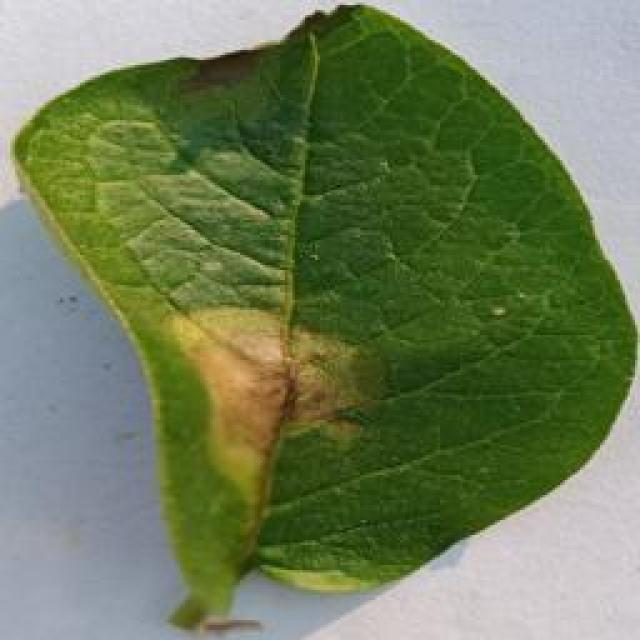Potato_Late_Blight: (12, 2, 625, 630)
